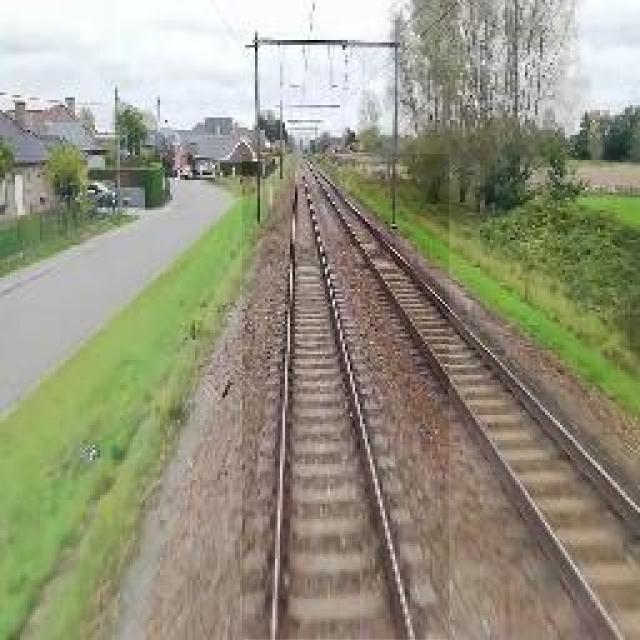rail: (243, 156, 450, 640)
